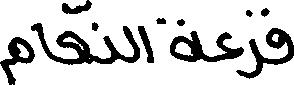X: (0, 21, 32, 84), (60, 0, 87, 69), (268, 5, 293, 69), (170, 14, 200, 66), (218, 27, 244, 81), (246, 5, 261, 83), (123, 21, 138, 67), (140, 21, 154, 67), (37, 18, 49, 62), (104, 31, 117, 68)
